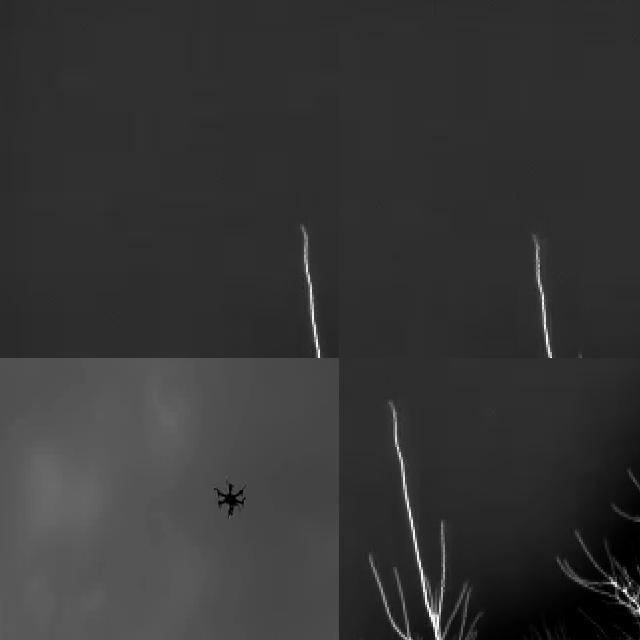drone: (213, 475, 250, 526)
